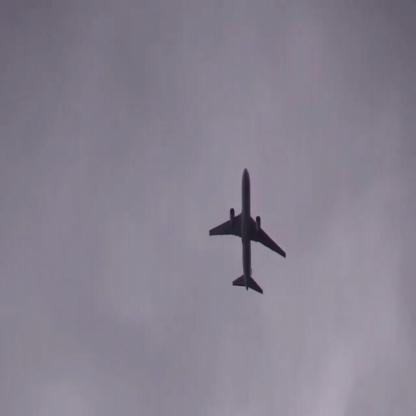CIV_Plane: (208, 167, 287, 292)
